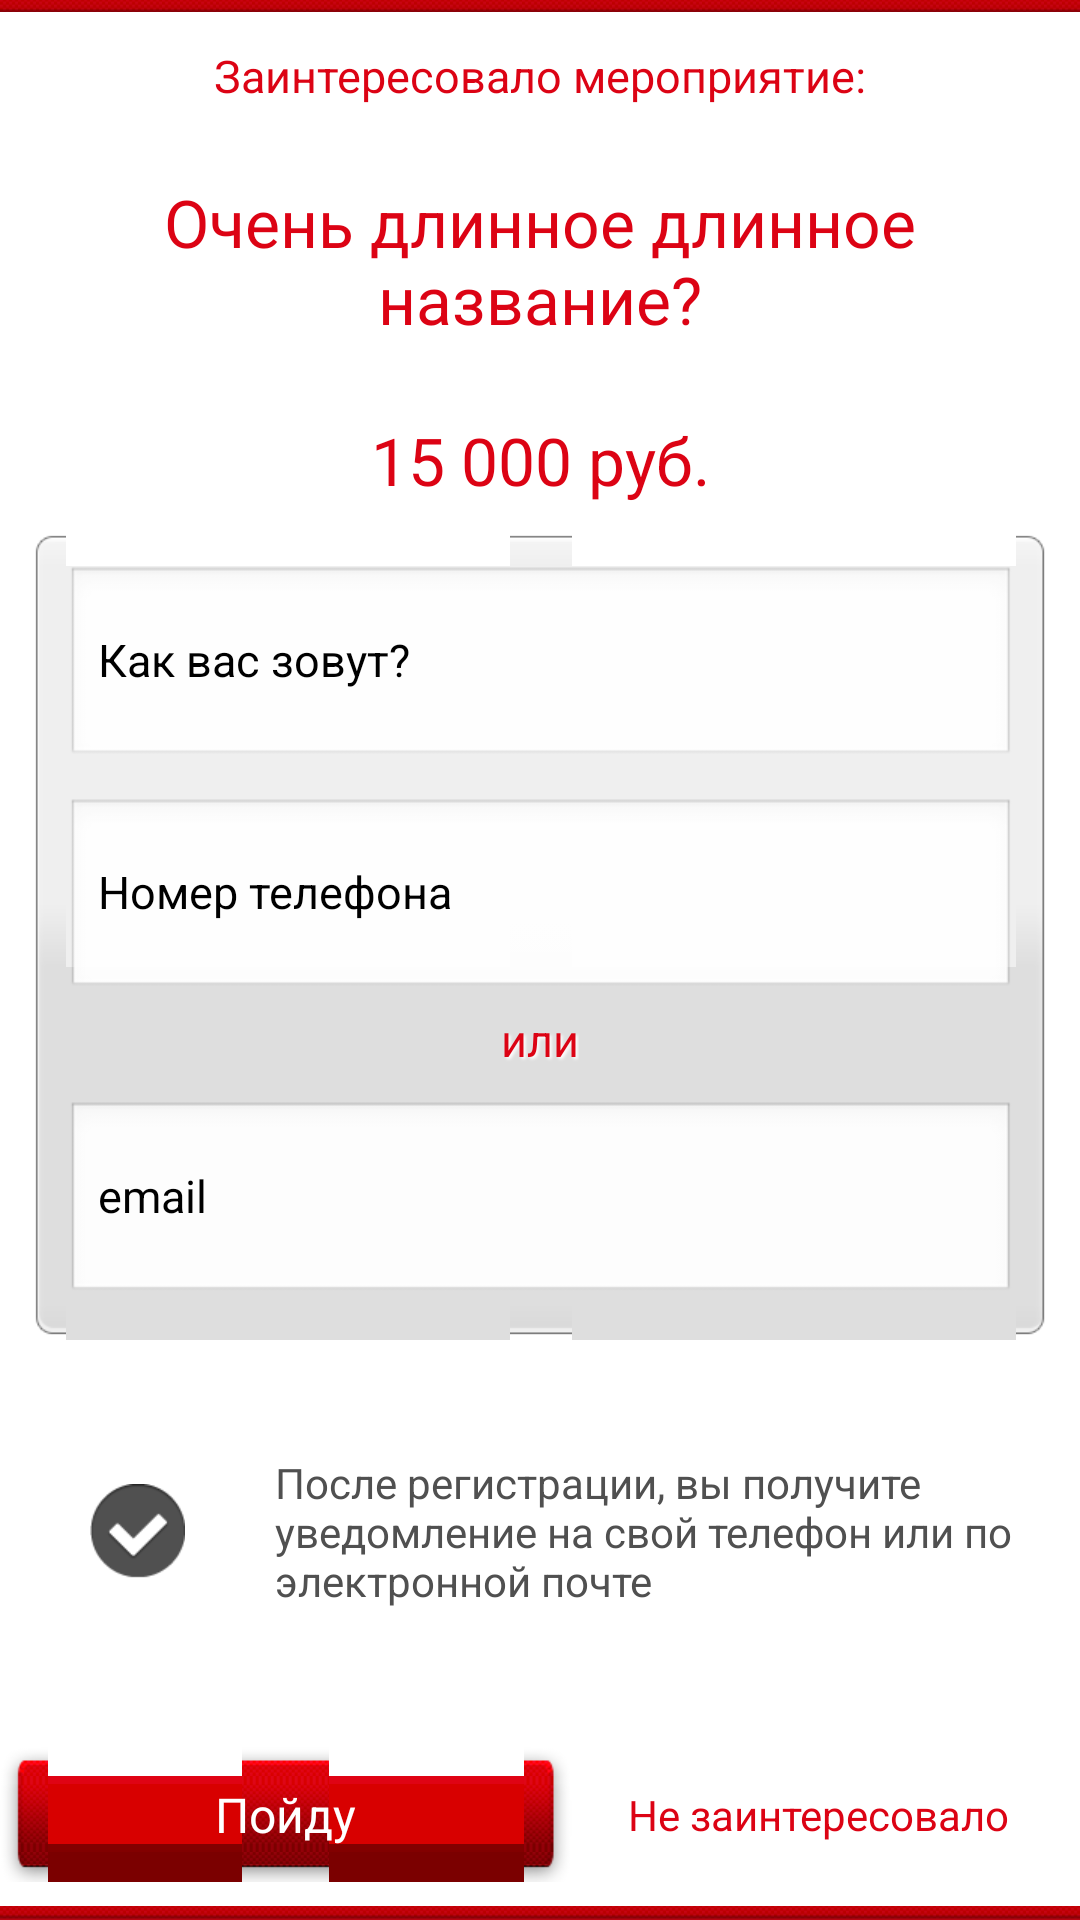

Screen size 1080px x 1920px. Icon name, then its center in pixels as [x,y]:
check: [137,1531]
